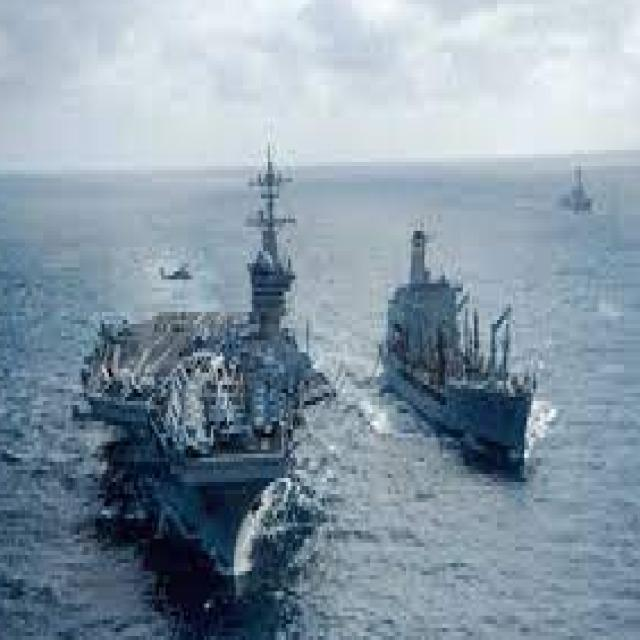navalvessels: (89, 150, 352, 614), (367, 223, 552, 474), (563, 162, 599, 219)
